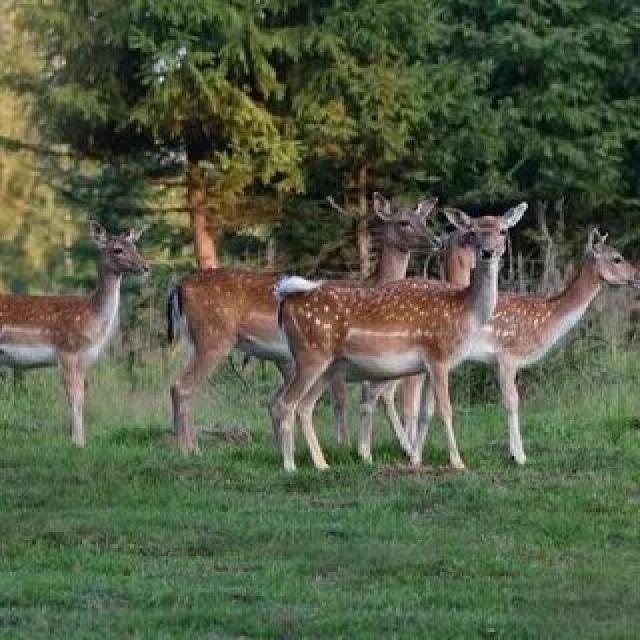deer: (282, 176, 578, 476), (426, 193, 640, 432), (0, 208, 217, 400)
